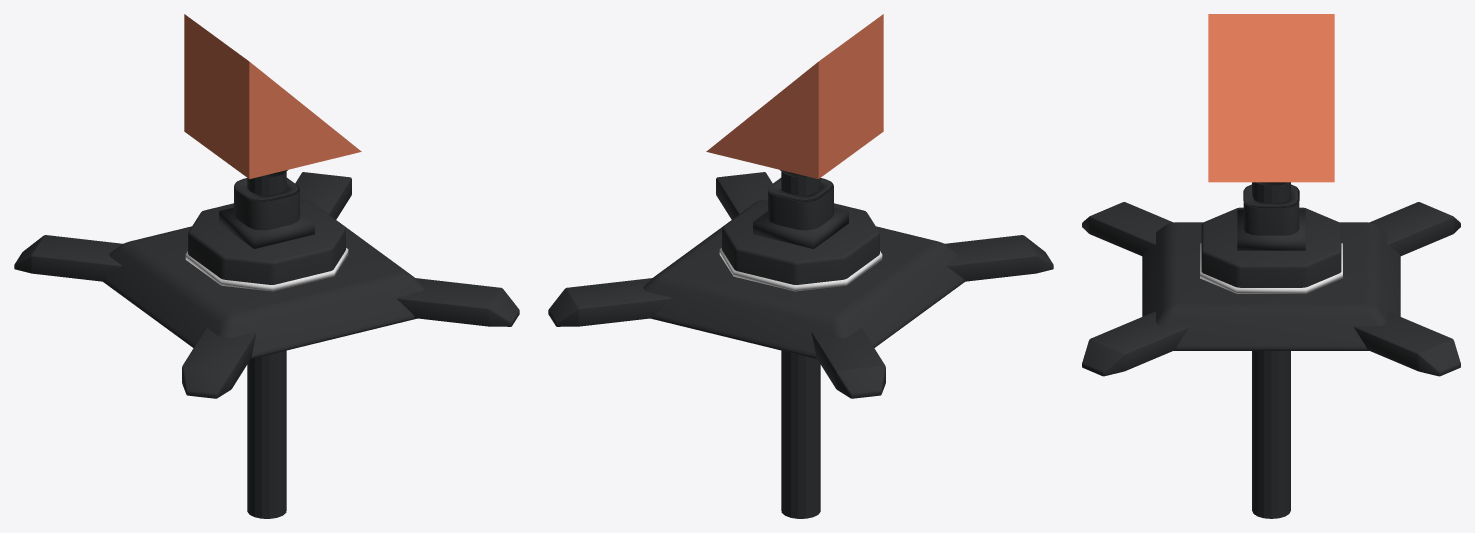
Rendered from socle.fbx.
3 renders of one model, left to right at view 1: azimuth 30°, elevation 25°; view 2: azimuth 150°, elevation 25°; view 3: azimuth 270°, elevation 25°, orthographic. The views are drawn at different scales.
Parts seen in each view (by area): view 1: Socle_miroir, Mirror, tige_miroir; view 2: Socle_miroir, Mirror, tige_miroir; view 3: Socle_miroir, Mirror, tige_miroir.
Part boxes in pixels (<box>): Socle_miroir: <box>14,172,519,398</box>; Mirror: <box>184,14,361,178</box>; tige_miroir: <box>247,169,288,518</box>; Socle_miroir: <box>548,172,1053,398</box>; Mirror: <box>706,14,883,178</box>; tige_miroir: <box>779,169,820,518</box>; Socle_miroir: <box>1082,184,1460,376</box>; Mirror: <box>1208,14,1334,182</box>; tige_miroir: <box>1252,182,1290,518</box>.
Size of the model in its own units: 336 by 468 by 340.
